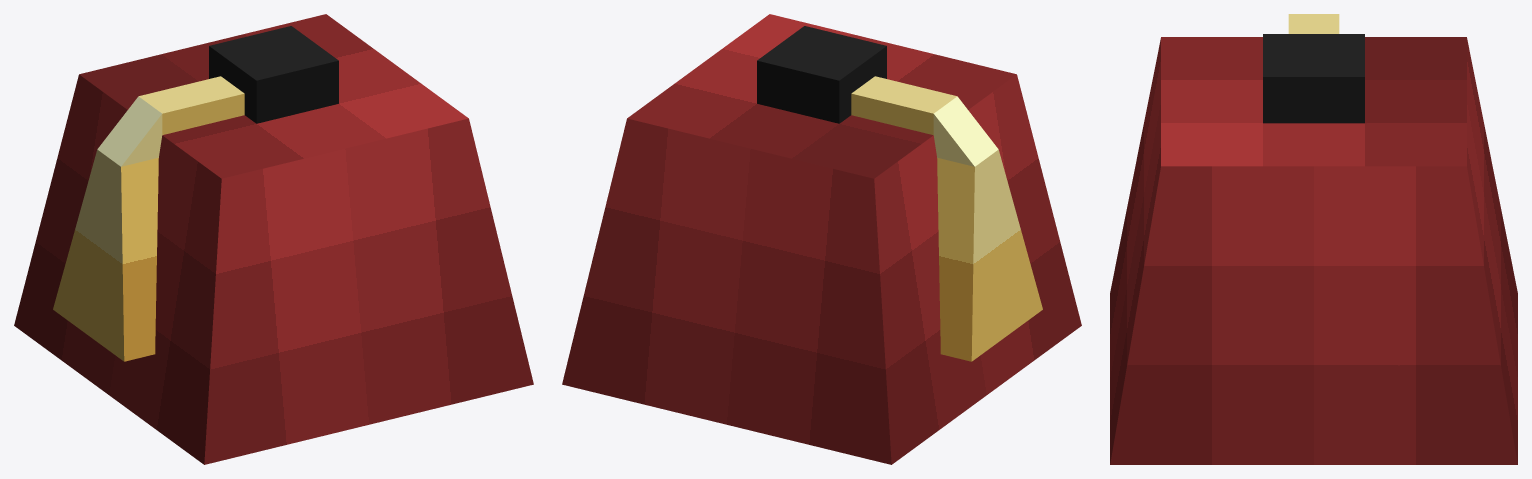
The model's file is hat_fez.obj.
3 views of the same model, side by side, from view 1: azimuth 30°, elevation 25°; view 2: azimuth 150°, elevation 25°; view 3: azimuth 270°, elevation 25° (orthographic). The views are drawn at different scales.
Visible parts, largest first — view 1: HAT_FEZ_Cube.057; view 2: HAT_FEZ_Cube.057; view 3: HAT_FEZ_Cube.057.
Part boxes in pixels (x1=…): HAT_FEZ_Cube.057: x1=14, y1=14, x2=533, y2=464; HAT_FEZ_Cube.057: x1=562, y1=14, x2=1081, y2=464; HAT_FEZ_Cube.057: x1=1110, y1=14, x2=1517, y2=464.
Size of the model in its own units: 0.2656 by 0.2188 by 0.25.
